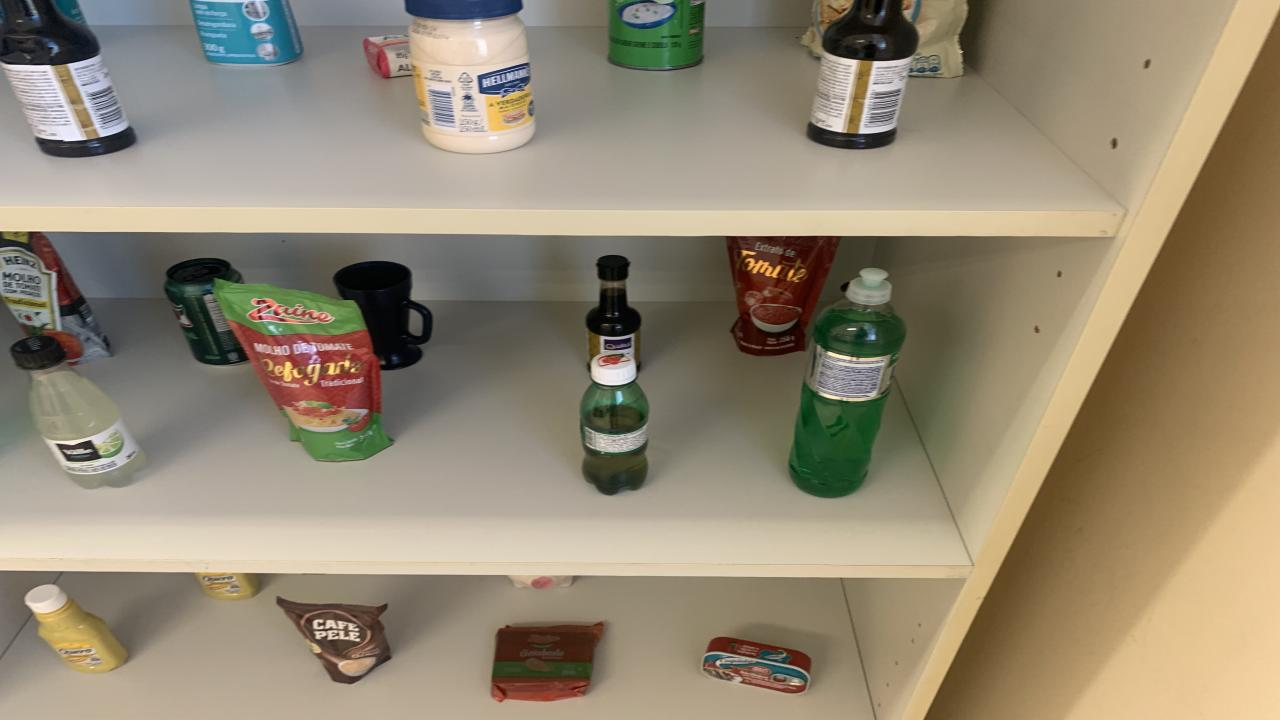Cleaner-Cleanup_Items: (190, 0, 302, 66)
Coffee-Pantry_Items: (275, 598, 390, 682)
Detergent-Cleanup_Items: (790, 268, 905, 497)
English_Sauce-Pantry_Items: (0, 0, 135, 158), (808, 0, 918, 148), (585, 255, 642, 366)
Flakes-Snacks: (902, 0, 968, 77), (800, 0, 852, 56), (510, 576, 575, 591)
Guarana-Drinks: (580, 352, 650, 495)
Guarana_Can-Drinks: (165, 257, 248, 366)
Guava-Snacks: (492, 622, 605, 701)
Mayonnaise-Pantry_Items: (408, 0, 535, 154)
Mustard-Pantry_Items: (25, 585, 128, 673), (195, 572, 260, 600)
Pringles-Snacks: (608, 0, 705, 69)
Soap-Cleanup_Items: (362, 36, 412, 77)
Soda-Drinks: (10, 336, 148, 489)
Tomato_Sauce-Pantry_Items: (215, 283, 392, 461), (0, 232, 112, 364), (728, 236, 840, 356)
Tuna_Can-Pantry_Items: (702, 638, 810, 694)
